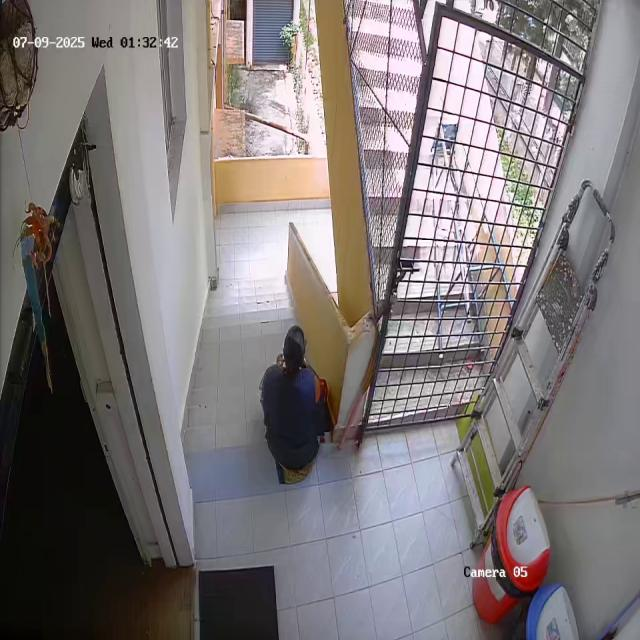person: (257, 324, 332, 469)
